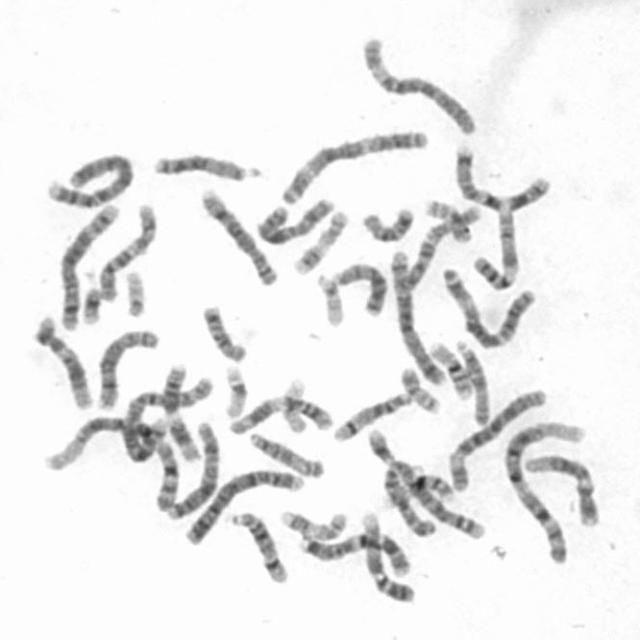A1: (496, 412, 589, 566), (36, 407, 170, 474)
A2: (379, 453, 490, 541), (116, 368, 216, 464)
A3: (272, 120, 432, 207), (436, 261, 539, 350)
B4: (177, 461, 306, 546), (40, 145, 136, 211)
B5: (51, 195, 123, 332), (384, 242, 446, 387)
C10: (390, 197, 483, 294), (92, 195, 160, 303)
C11: (221, 390, 336, 436), (156, 358, 202, 463)
C12: (27, 308, 95, 411), (519, 447, 601, 529)
C6: (352, 28, 480, 136), (441, 381, 550, 494)
C7: (448, 136, 553, 213), (292, 526, 413, 576)
C8: (193, 180, 281, 287), (90, 320, 162, 412)
C9: (353, 502, 418, 606), (466, 201, 521, 290)
D13: (147, 145, 264, 183), (325, 254, 389, 319)
D14: (223, 503, 290, 585), (327, 384, 414, 443)
D15: (242, 424, 327, 479), (450, 332, 493, 427)
E16: (424, 333, 476, 401), (384, 471, 462, 512)
E17: (286, 202, 351, 276), (273, 502, 350, 542)
E18: (195, 297, 250, 364), (355, 199, 417, 244)
F19: (275, 371, 310, 435), (216, 357, 251, 419)
F20: (417, 192, 477, 244), (393, 359, 444, 415)
G21: (361, 421, 399, 466), (76, 278, 104, 326)
G22: (309, 265, 347, 328), (118, 262, 149, 318)
X: (160, 414, 222, 521), (250, 190, 336, 247)
